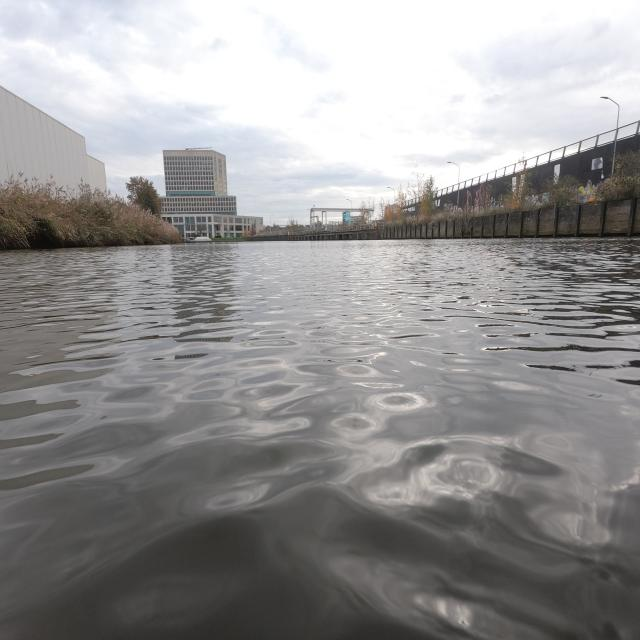reed: (2, 178, 176, 246)
sky: (0, 2, 638, 218)
wall: (424, 202, 638, 238)
water: (0, 236, 640, 640)
